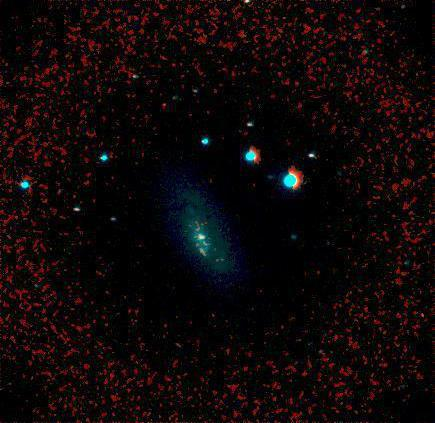star: (149, 92, 179, 122)
